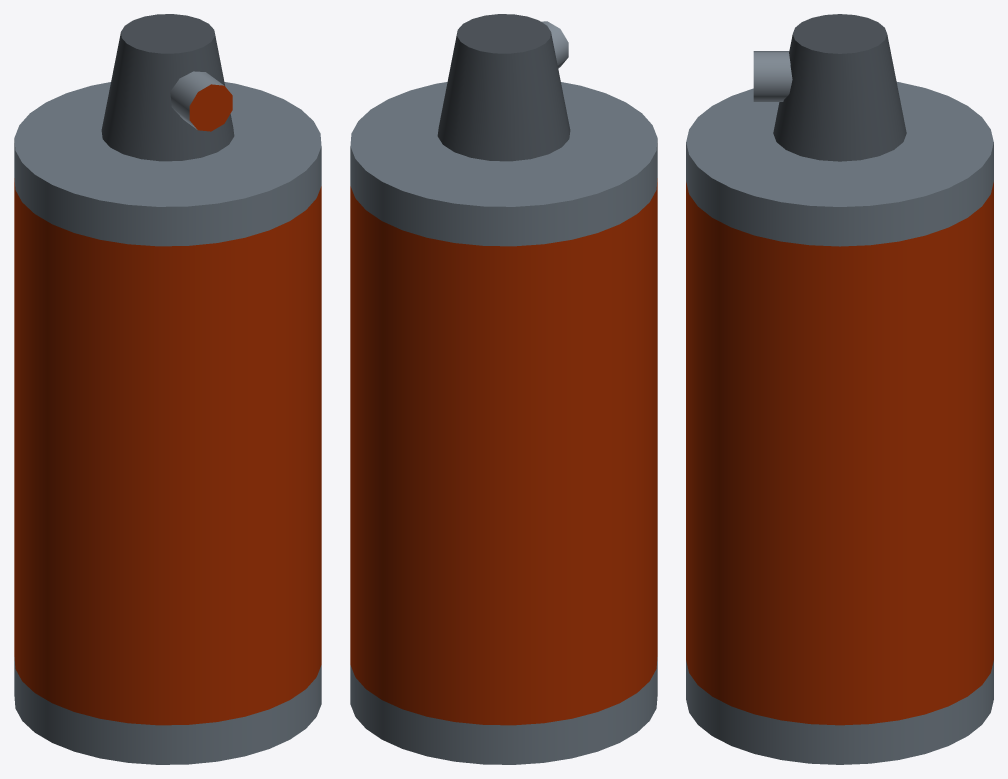
The model's file is Spray Can.fbx.
3 views of the same model, side by side, from view 1: azimuth 30°, elevation 25°; view 2: azimuth 150°, elevation 25°; view 3: azimuth 270°, elevation 25° (orthographic).
Visible parts, largest first — view 1: Cylinder.002; view 2: Cylinder.002; view 3: Cylinder.002.
Part boxes in pixels (<box>): Cylinder.002: <box>14,14,321,764</box>; Cylinder.002: <box>350,14,657,764</box>; Cylinder.002: <box>686,14,993,764</box>.
Bounding box in the file's own units: 0.206 × 0.4921 × 0.206.
